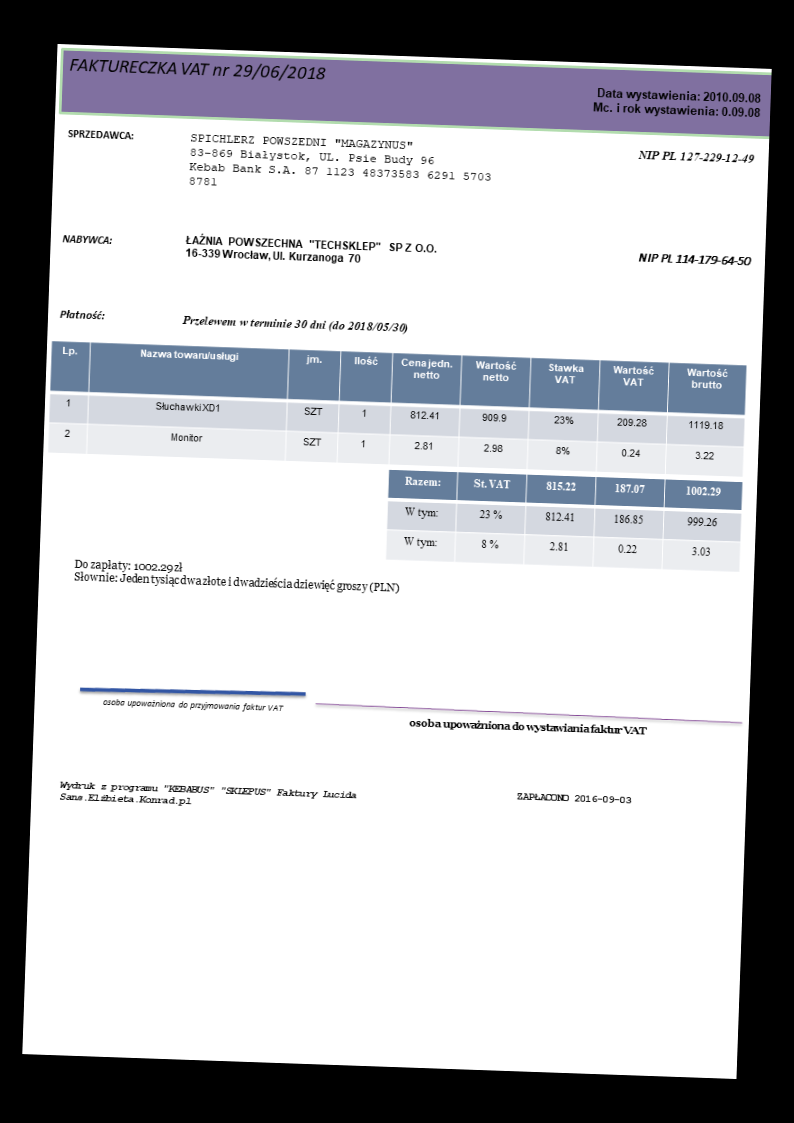Table: (45, 339, 749, 479), (384, 468, 744, 573)
TextBox: (187, 130, 495, 198), (71, 556, 401, 596), (57, 777, 358, 813), (183, 230, 438, 268), (67, 54, 328, 84), (590, 84, 763, 121), (407, 714, 649, 738), (179, 312, 411, 337), (99, 696, 285, 715), (636, 147, 756, 167), (515, 789, 633, 807), (636, 251, 754, 268), (65, 126, 137, 142), (59, 231, 116, 247), (58, 306, 107, 322)
